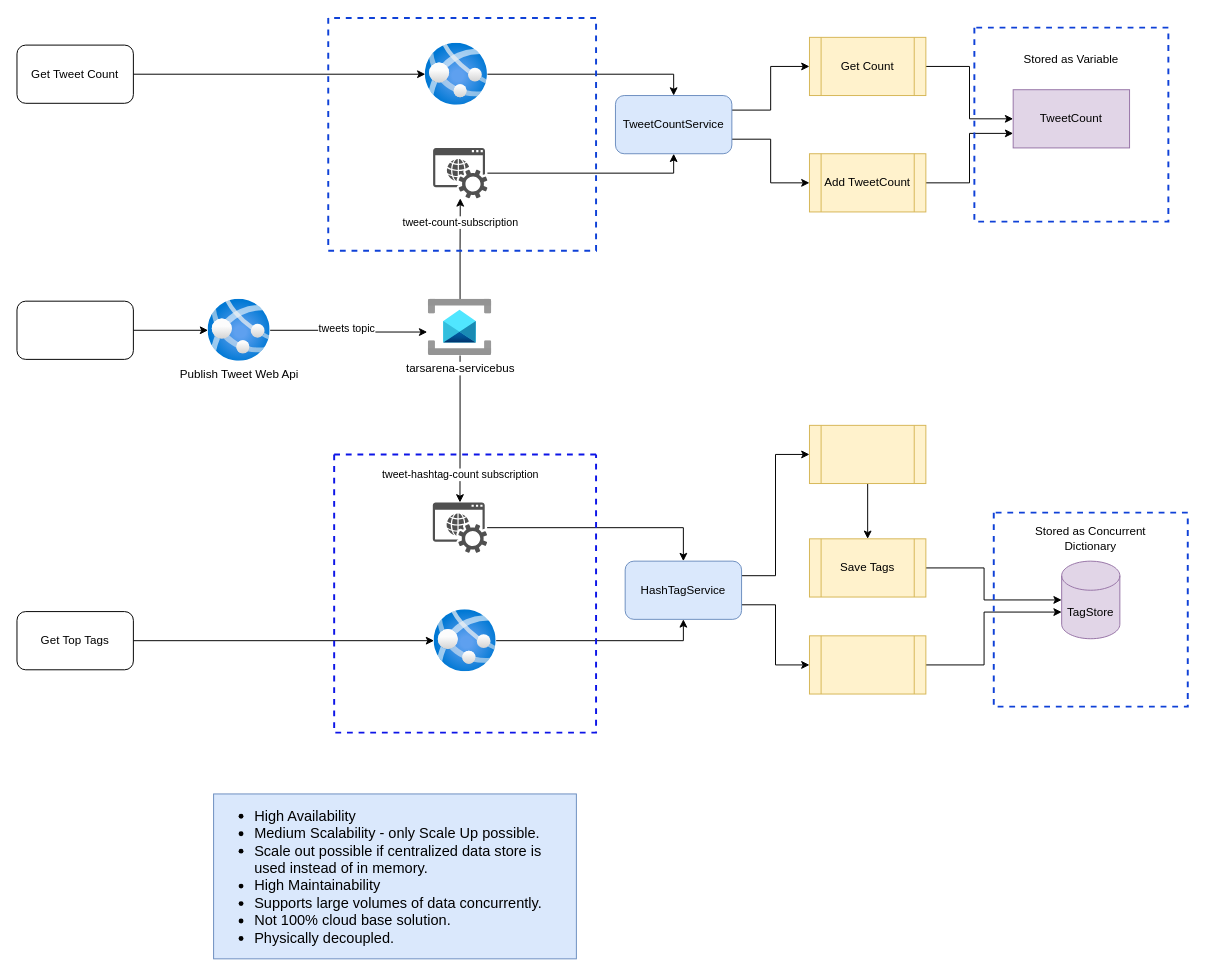
Some shapes in this 1206 by 977 pixel diagram are drawn without their labels. Each missing label, with the box of its shape:
Extract Tags: (808, 424, 926, 484)
Fetch Tweet: (16, 300, 133, 359)
GetTopTags: (808, 635, 926, 694)
Tweet Count Api: (425, 43, 487, 105)
Tweet-Hashtag Count Api: (434, 609, 496, 671)
TweetHashTagCountHostedService: (432, 502, 487, 552)
